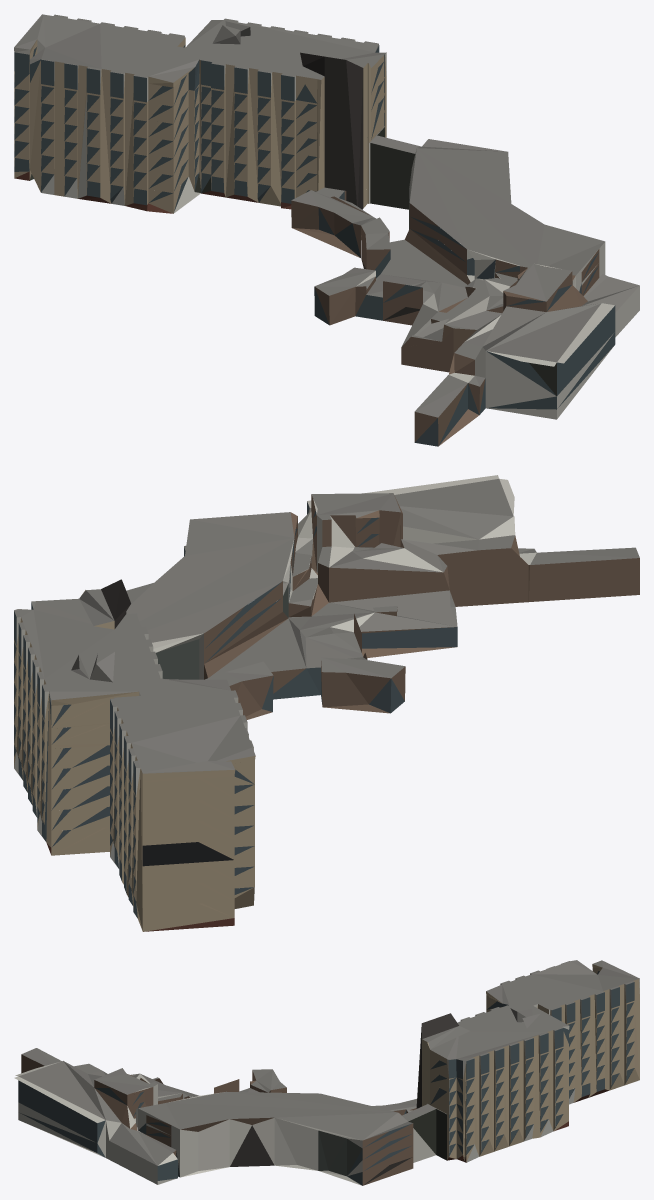
The model's file is apollo-hotel.lod2.glb.
3 renders of one model, top to bottom at view 1: azimuth 30°, elevation 25°; view 2: azimuth 150°, elevation 25°; view 3: azimuth 270°, elevation 25°, orthographic. The views are drawn at different scales.
Visible parts, largest first — view 1: lod2; view 2: lod2; view 3: lod2.
Part boxes in pixels (x1,y1,x2,y2): lod2: (14, 14, 639, 446); lod2: (14, 475, 639, 931); lod2: (14, 960, 639, 1185).
Size of the model in its own units: 62.34 by 26.99 by 131.
